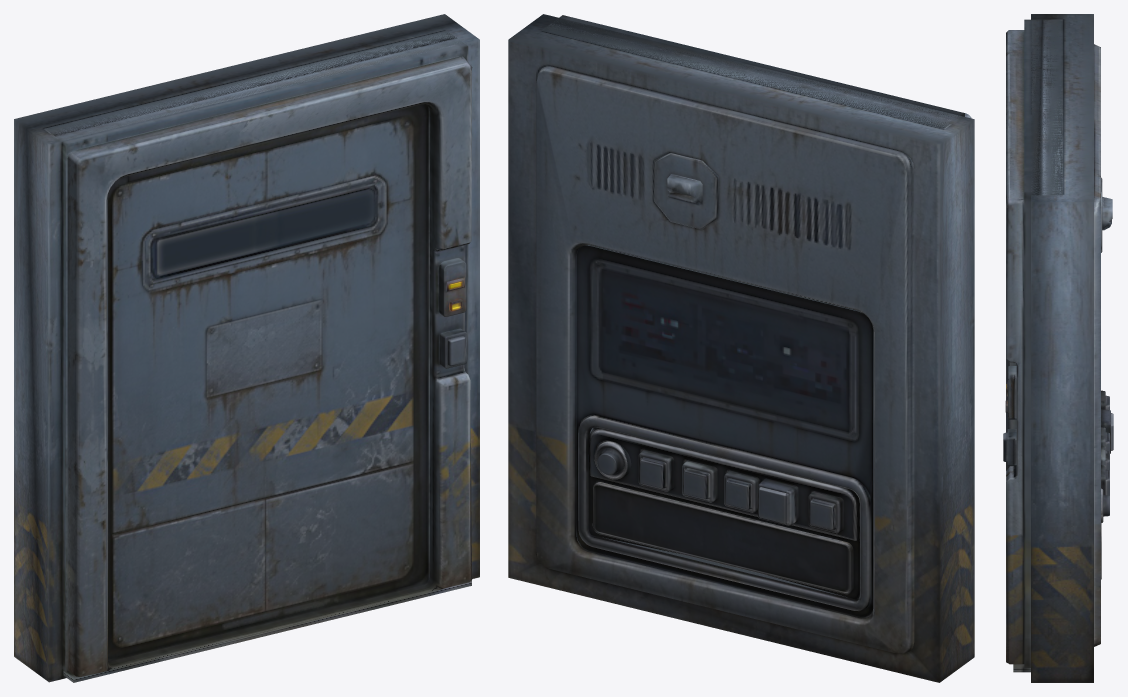
Rendered from 安全门.glb.
3 renders of one model, left to right at view 1: azimuth 30°, elevation 25°; view 2: azimuth 150°, elevation 25°; view 3: azimuth 270°, elevation 25°, orthographic. The views are drawn at different scales.
Visible parts, largest first — view 1: tripo_node_53178ca1-1631-4d4e-a4c1-83598ed2a124; view 2: tripo_node_53178ca1-1631-4d4e-a4c1-83598ed2a124; view 3: tripo_node_53178ca1-1631-4d4e-a4c1-83598ed2a124.
Part boxes in pixels (x1,y1,x2,y2): tripo_node_53178ca1-1631-4d4e-a4c1-83598ed2a124: (14,14,479,682); tripo_node_53178ca1-1631-4d4e-a4c1-83598ed2a124: (508,14,974,682); tripo_node_53178ca1-1631-4d4e-a4c1-83598ed2a124: (1003,14,1113,682).
Size of the model in its own units: 0.8384 by 0.9995 by 0.2075.
1 material, 1 textured.
